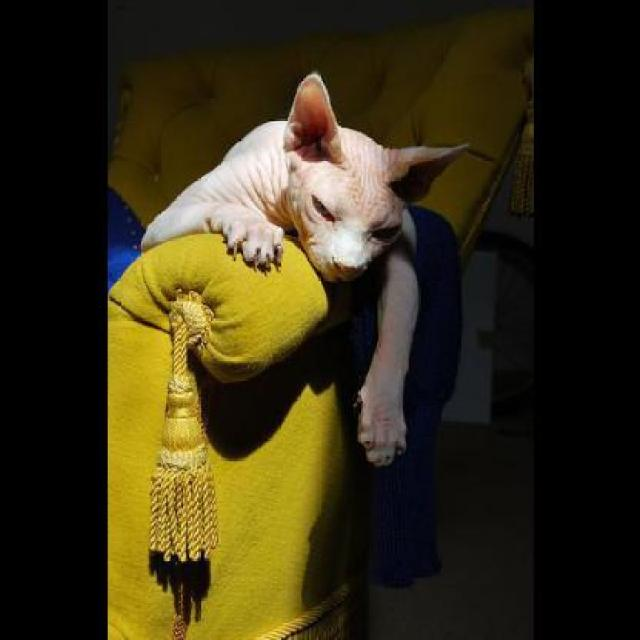unauthorized: (137, 70, 469, 468)
